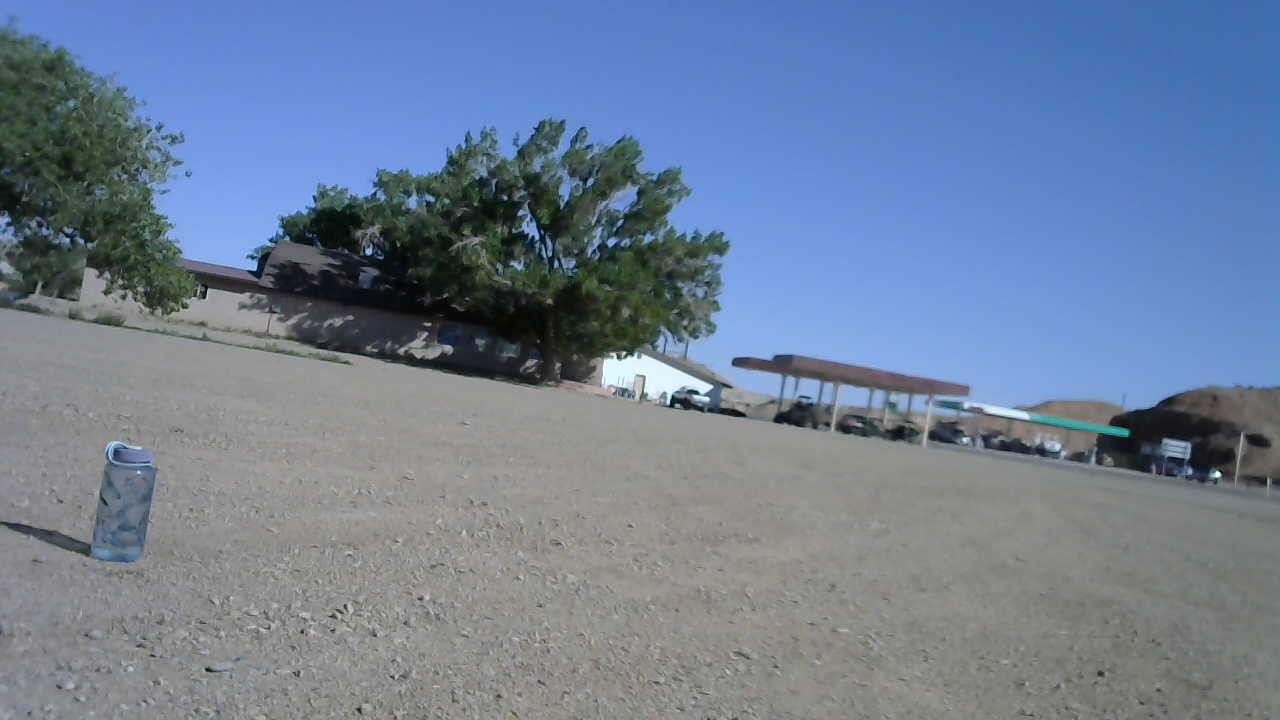bottle: (87, 429, 164, 567)
